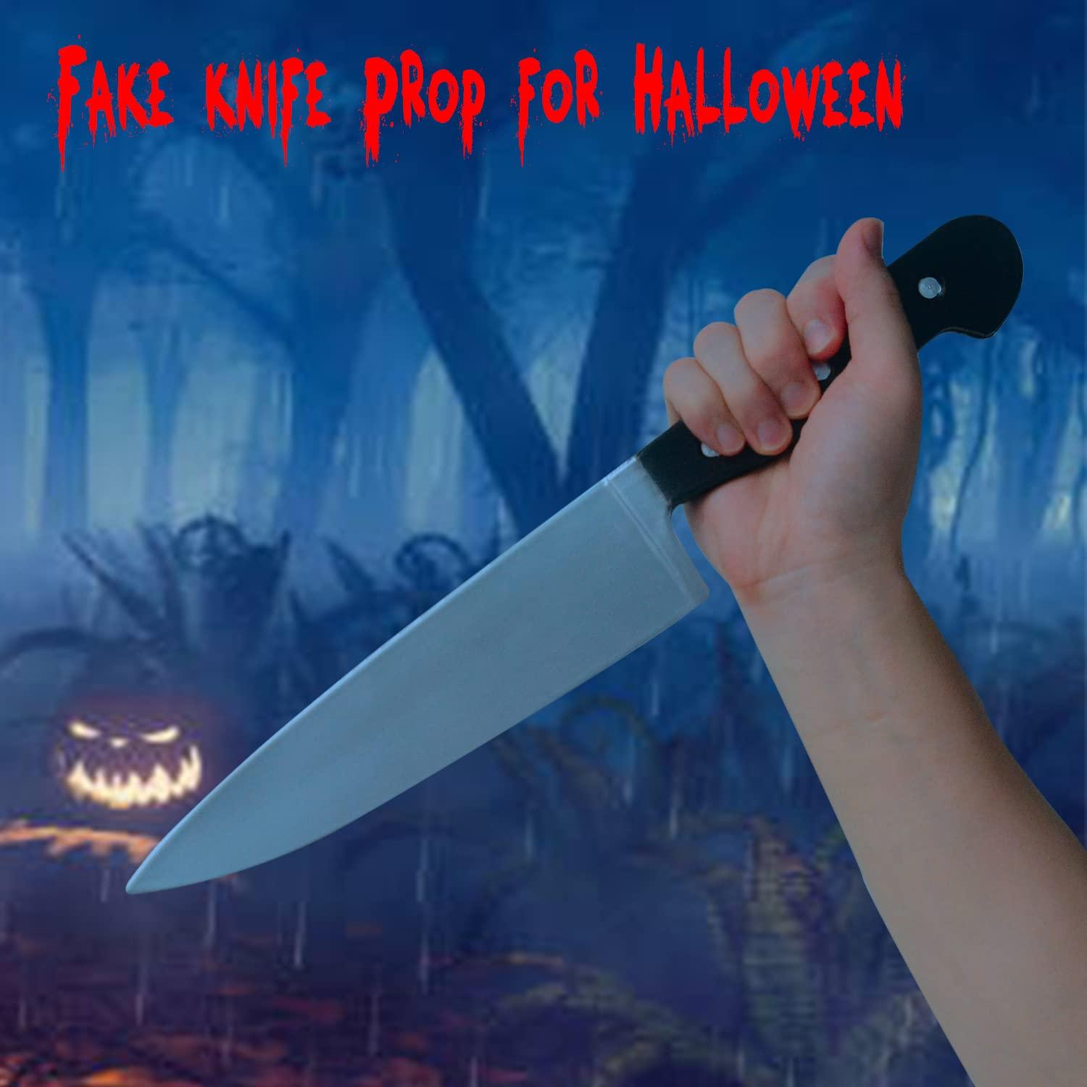Knife: (662, 217, 1087, 1087), (126, 435, 719, 896), (664, 235, 922, 564)
